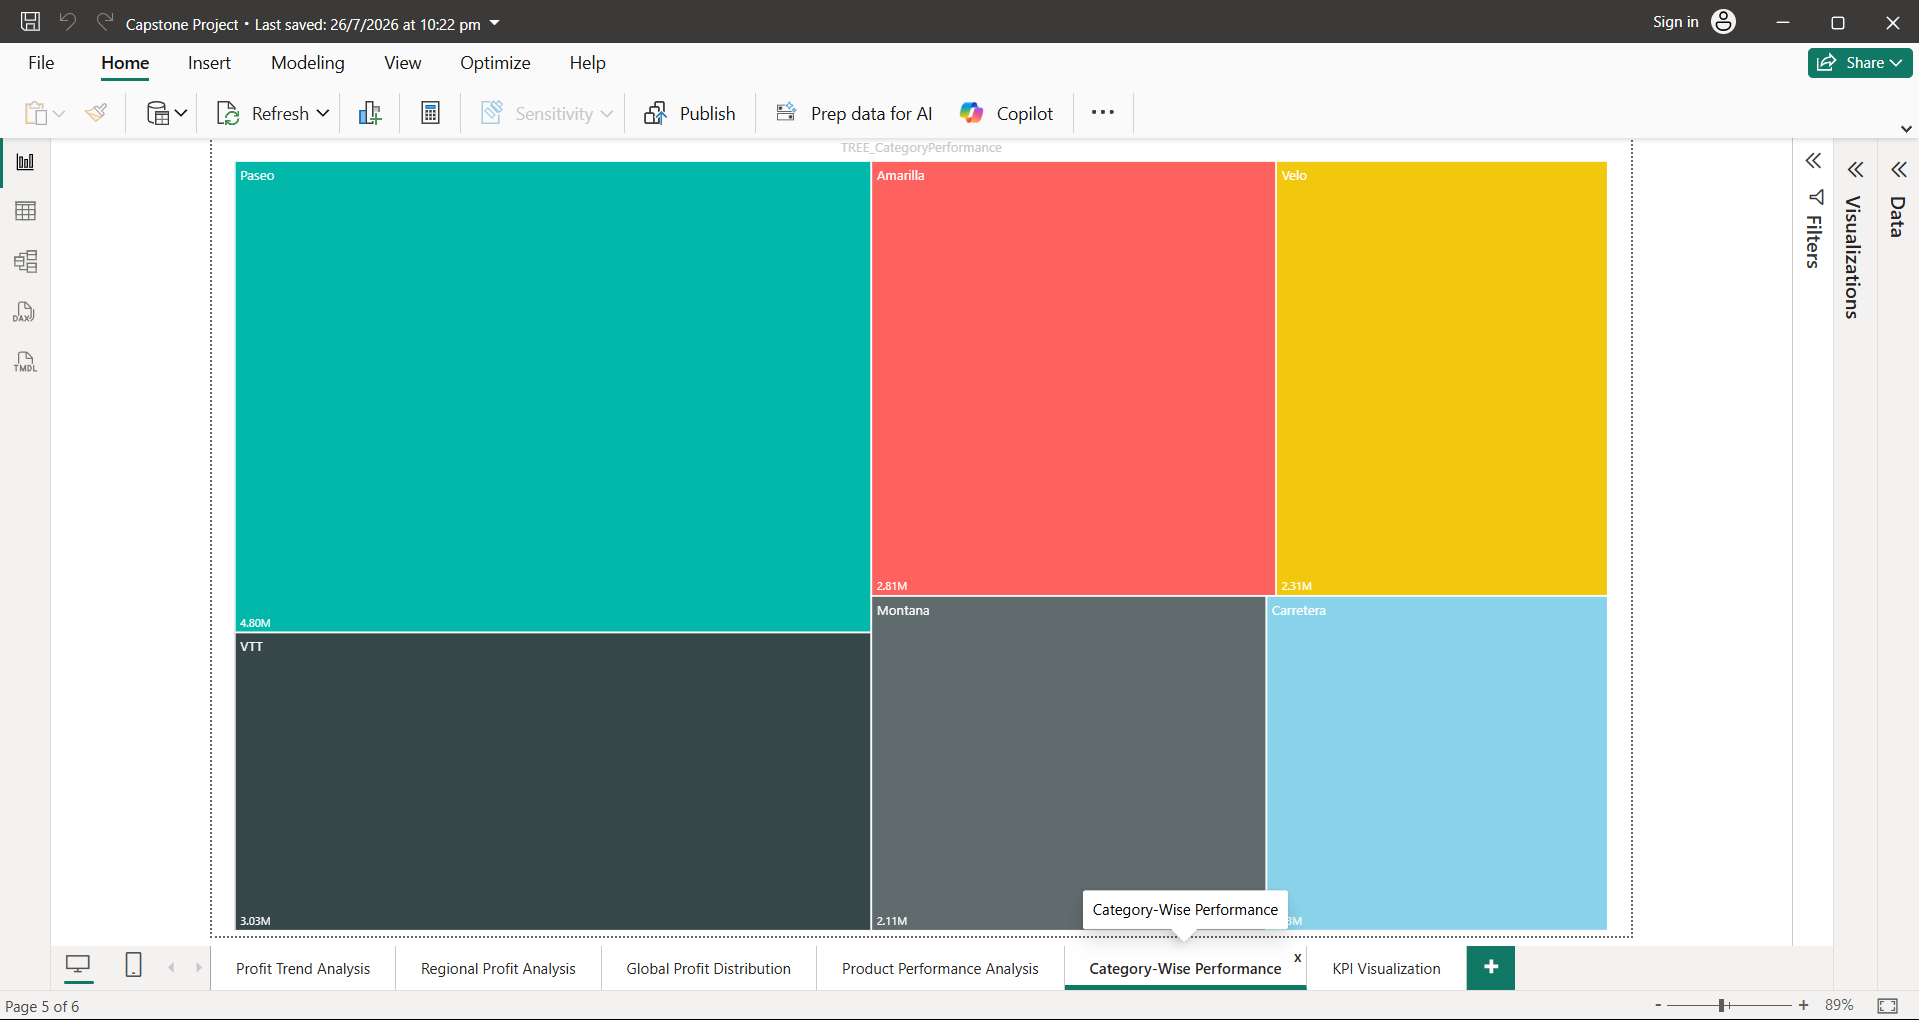

The dashboard page shown, as its layout file describes it:
{"tool":"powerbi","page":{"name":"Category-Wise Performance","canvas":[1280,720],"ordinal":4},"visuals":[{"type":"treemap","title":"TREE_CategoryPerformance","fields":{"Group":["Table_1.Product"],"Values":["_Measures.Total Profit"]},"box":[16,0,1248,720],"z":0}]}

Visuals, with their boxes on the page's 1280x720 design canvas (x1, y1, x2, y2). These are canvas units, not pixel positions in the 1919x1020 screenshot, which may show the page scaled, cropped or inside an application window:
"TREE_CategoryPerformance" treemap: bbox=[16, 0, 1264, 720]
